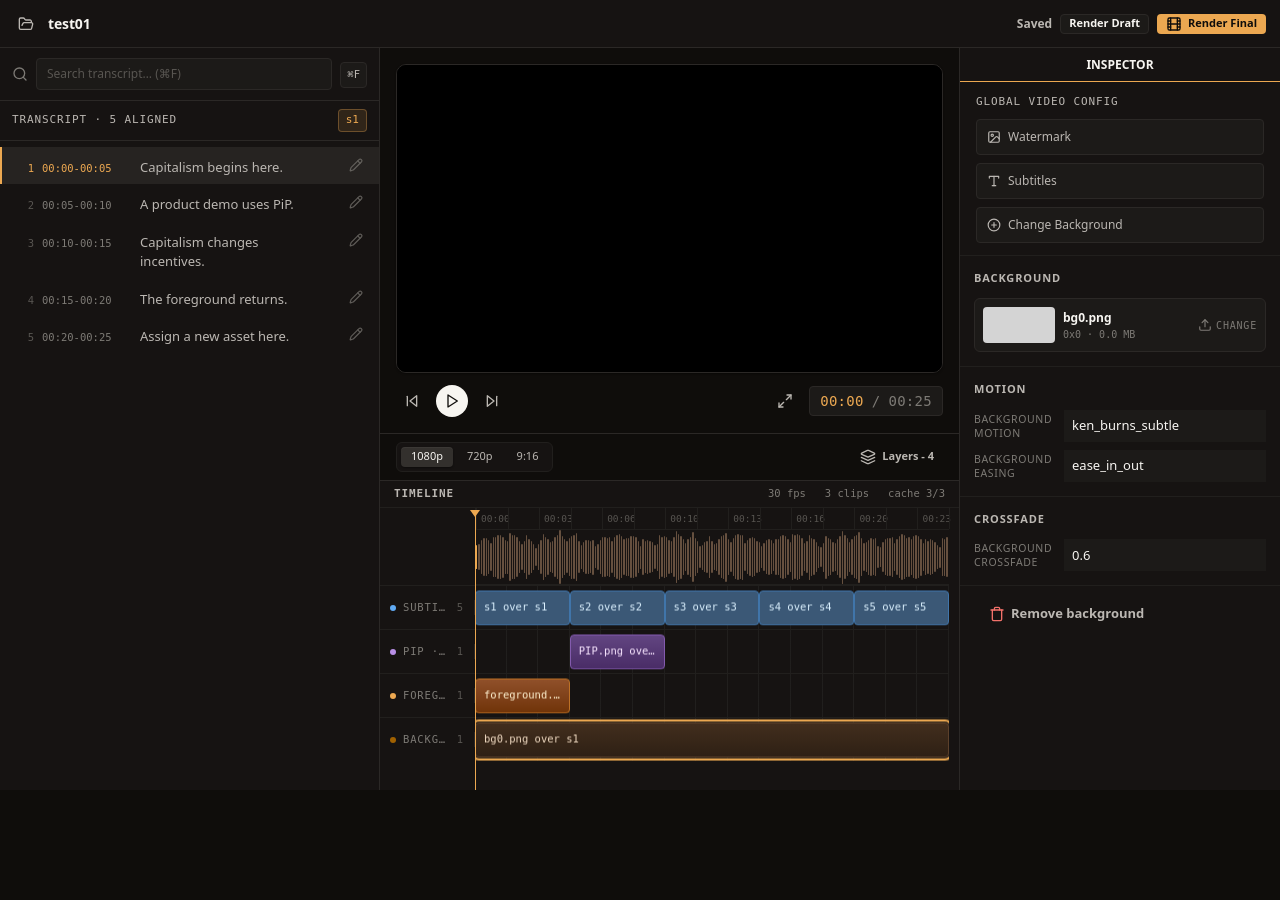
renders the test01 editor from project, alignment, and media data
The image size is (1280, 900).
expect the heading "test01" is shown: met, box [48,13,91,34]
expect the text "30 fps 3 clips cache 3/3" is shown: met, box [768,486,945,502]
Click the button "PIP.png over s2": [617, 652] box [571,635,664,668]
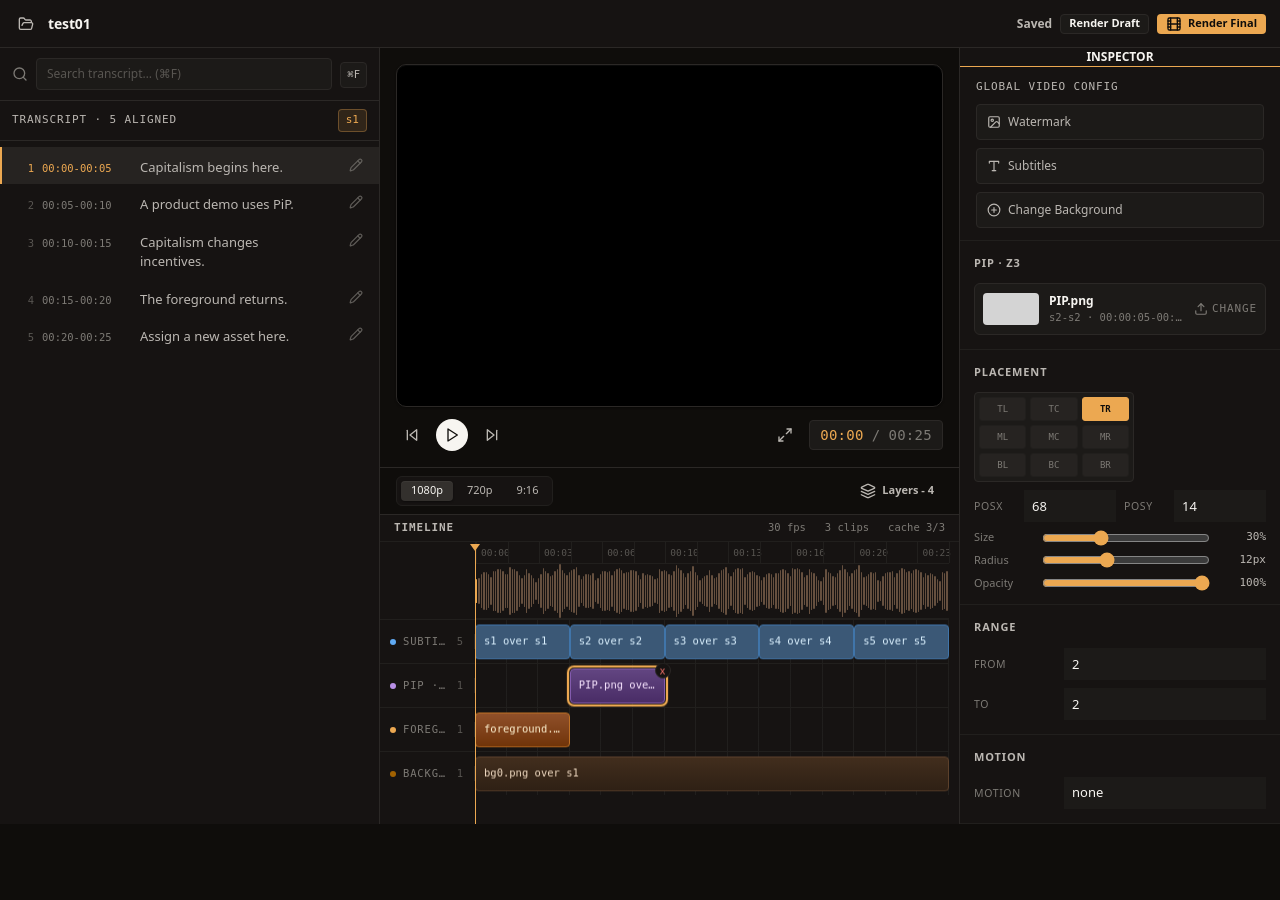
expect the slider named "PiP size" holds "30": met, box [1042,534,1210,542]
expect the slider named "PiP radius" holds "12": met, box [1042,556,1210,564]
expect the slider named "PiP opacity" holds "100": met, box [1042,579,1210,587]
Click the button "bg0.png over s1": [531, 773] box [476,757,948,790]
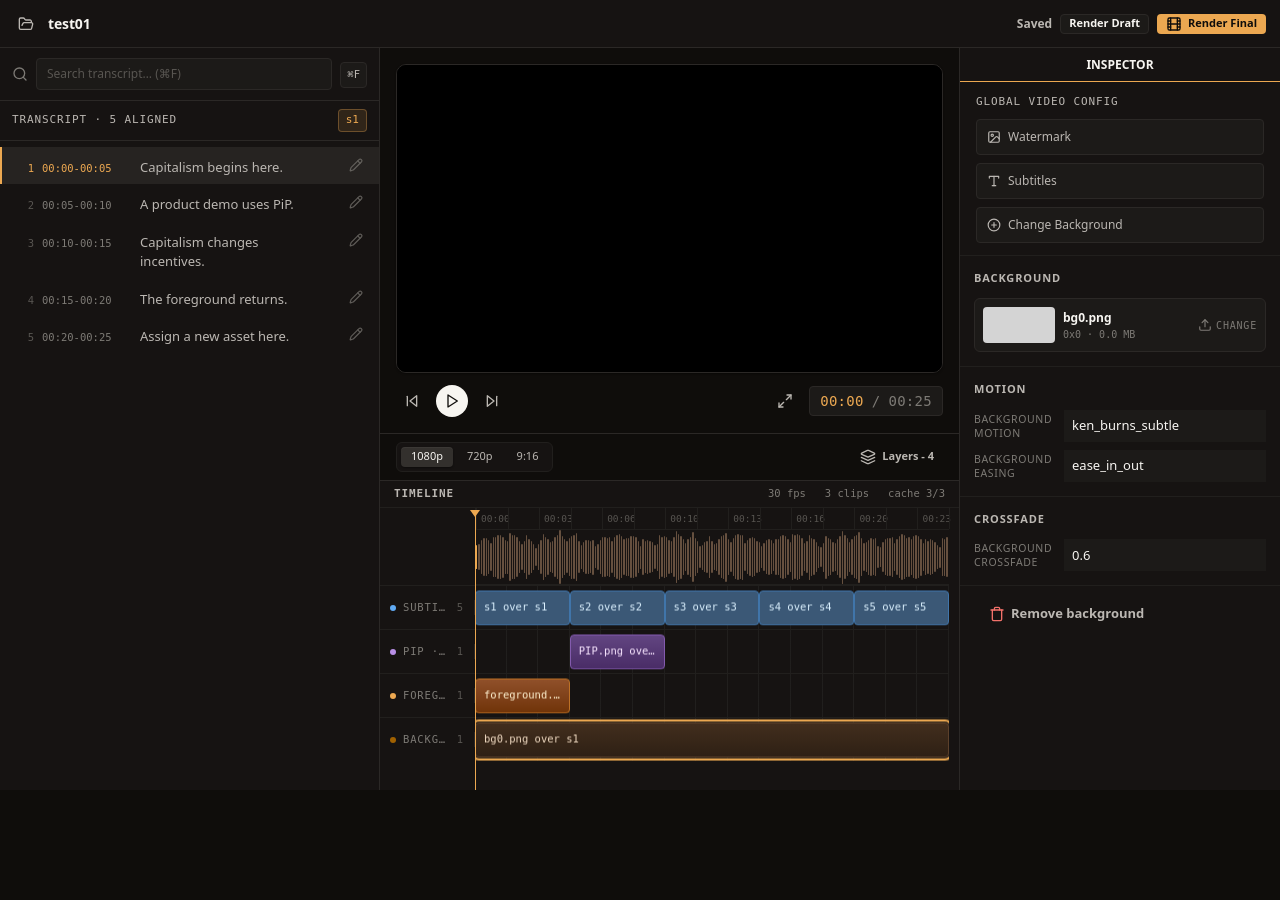
expect the number field labelled "Background crossfade" holds "0.6": met, box [1064,539,1266,571]
